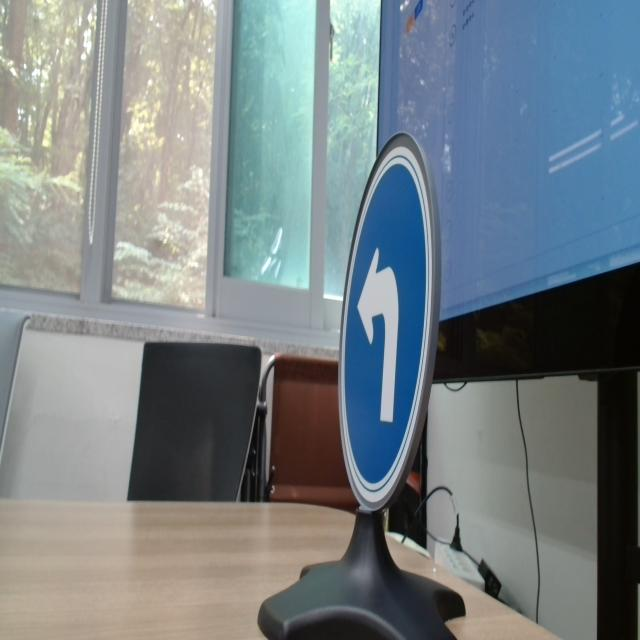left_direction: (324, 96, 464, 554)
